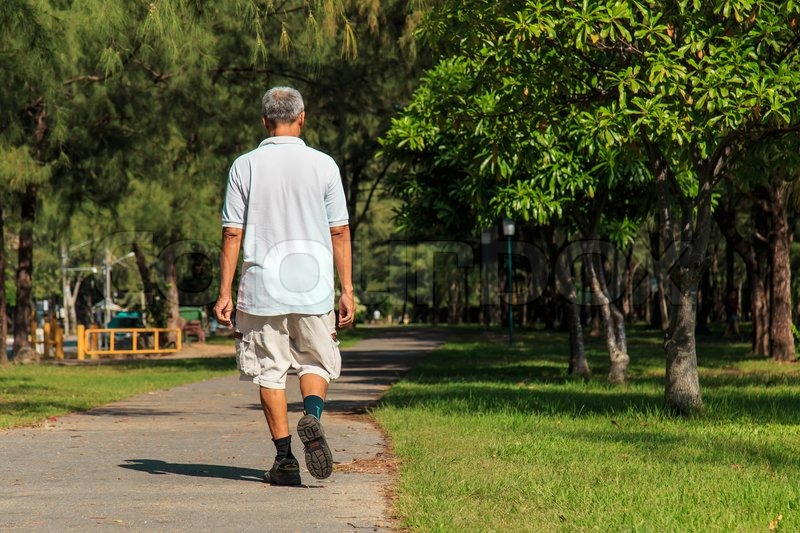NOTSAFE: (237, 84, 345, 314)
